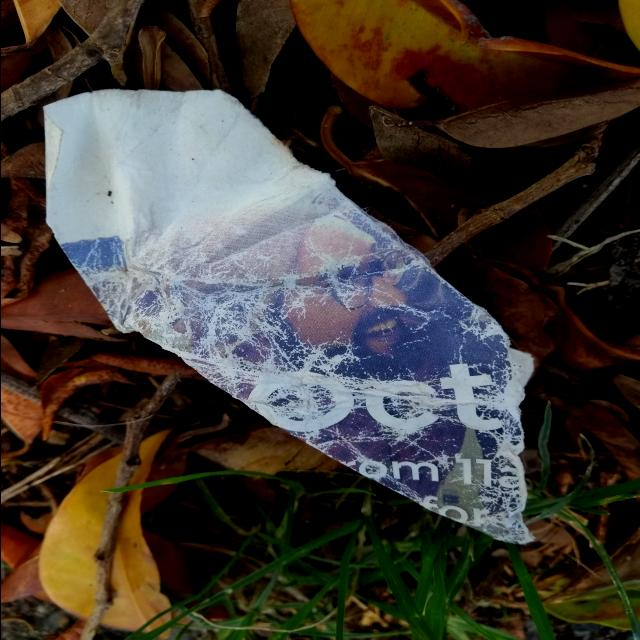Other carton: (42, 89, 534, 544)
